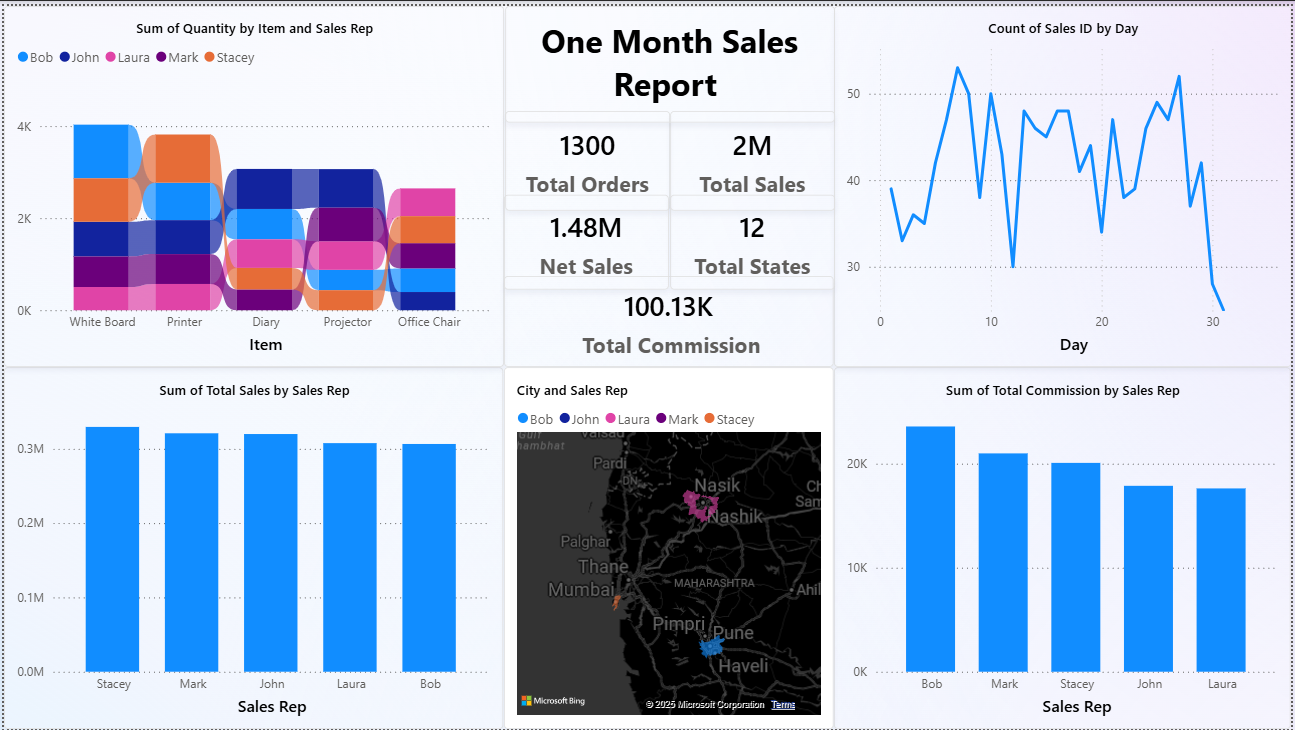

This screenshot's page, from the dashboard's own definition file:
{"tool":"powerbi","page":{"name":"Page 1","canvas":[1280,720],"ordinal":0},"visuals":[{"type":"clusteredColumnChart","fields":{"Category":["Sales raw data 2 (2).Sales Rep"],"Y":["Sales raw data 2 (2).Total Sales"]},"box":[0,360,497.1,360],"z":0},{"type":"clusteredColumnChart","fields":{"Category":["Sales raw data 2 (2).Sales Rep"],"Y":["Sales raw data 2 (2).Total Commission"]},"box":[826,360,454.3,360],"z":1},{"type":"lineChart","fields":{"Category":["Sales raw data 2 (2).Date.Variation.Date Hierarchy.Day"],"Y":["Sales raw data 2 (2).Sales ID"]},"box":[825.4,0,454.9,359.5],"z":2},{"type":"ribbonChart","fields":{"Y":["Sales raw data 2 (2).Quantity"],"Category":["Sales raw data 2 (2).Item"],"Series":["Sales raw data 2 (2).Sales Rep"]},"box":[0,0,497.7,359.5],"z":3},{"type":"card","fields":{"Values":["Sales raw data 2 (2).Sales ID"]},"box":[498.9,103.9,163.9,99],"z":5},{"type":"card","fields":{"Values":["Sales raw data 2 (2).Total Sales"]},"box":[662.8,103.9,163.9,99],"z":6},{"type":"card","fields":{"Values":["Sales raw data 2 (2).State"]},"box":[662.8,188.3,163.9,94.2],"z":7},{"type":"card","fields":{"Values":["Sales raw data 2 (2).Total Commission"]},"box":[497.7,269,327.7,90.5],"z":8},{"type":"card","fields":{"Values":["Sales raw data 2 (2).Net Sales"]},"box":[497.7,188.3,163.9,94.2],"z":9},{"type":"textbox","box":[498.9,0,327.7,116.2],"z":10},{"type":"filledMap","fields":{"Category":["EMP Name.City"],"Series":["EMP Name.Sales Rep"]},"box":[498,360,328,360],"z":11}]}

Visuals, with their boxes in screenshot pixels (x1, y1, x2, y2), scaled from the page's 1280x720 canvas onto the 1295x730 screenshot:
clusteredColumnChart - Sales raw data 2 (2).Sales Rep x Sales raw data 2 (2).Total Sales: bbox=[0, 365, 503, 729]
clusteredColumnChart - Sales raw data 2 (2).Sales Rep x Sales raw data 2 (2).Total Commission: bbox=[836, 365, 1294, 729]
lineChart - Sales raw data 2 (2).Date.Variation.Date Hierarchy.Day x Sales raw data 2 (2).Sales ID: bbox=[835, 0, 1294, 364]
ribbonChart - Sales raw data 2 (2).Quantity x Sales raw data 2 (2).Item: bbox=[0, 0, 504, 364]
card - Sales raw data 2 (2).Sales ID: bbox=[505, 105, 671, 206]
card - Sales raw data 2 (2).Total Sales: bbox=[671, 105, 836, 206]
card - Sales raw data 2 (2).State: bbox=[671, 191, 836, 286]
card - Sales raw data 2 (2).Total Commission: bbox=[504, 273, 835, 364]
card - Sales raw data 2 (2).Net Sales: bbox=[504, 191, 669, 286]
textbox: bbox=[505, 0, 836, 118]
filledMap - EMP Name.City x EMP Name.Sales Rep: bbox=[504, 365, 836, 729]
